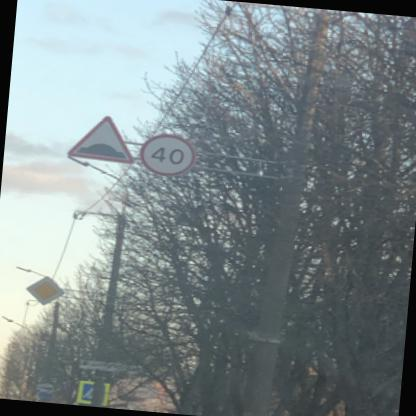speedlimit: (136, 130, 195, 176)
